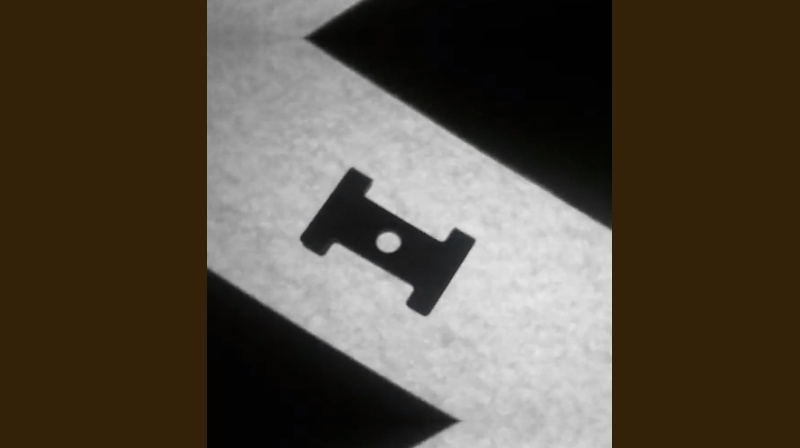O002: (298, 163, 479, 320)
